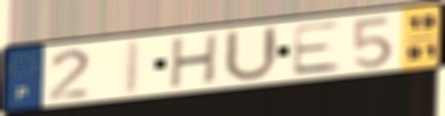2: (46, 47, 94, 103)
5: (349, 13, 396, 70)
E: (288, 19, 344, 78)
H: (166, 31, 222, 91)
I: (120, 37, 144, 98)
U: (221, 24, 282, 84)
